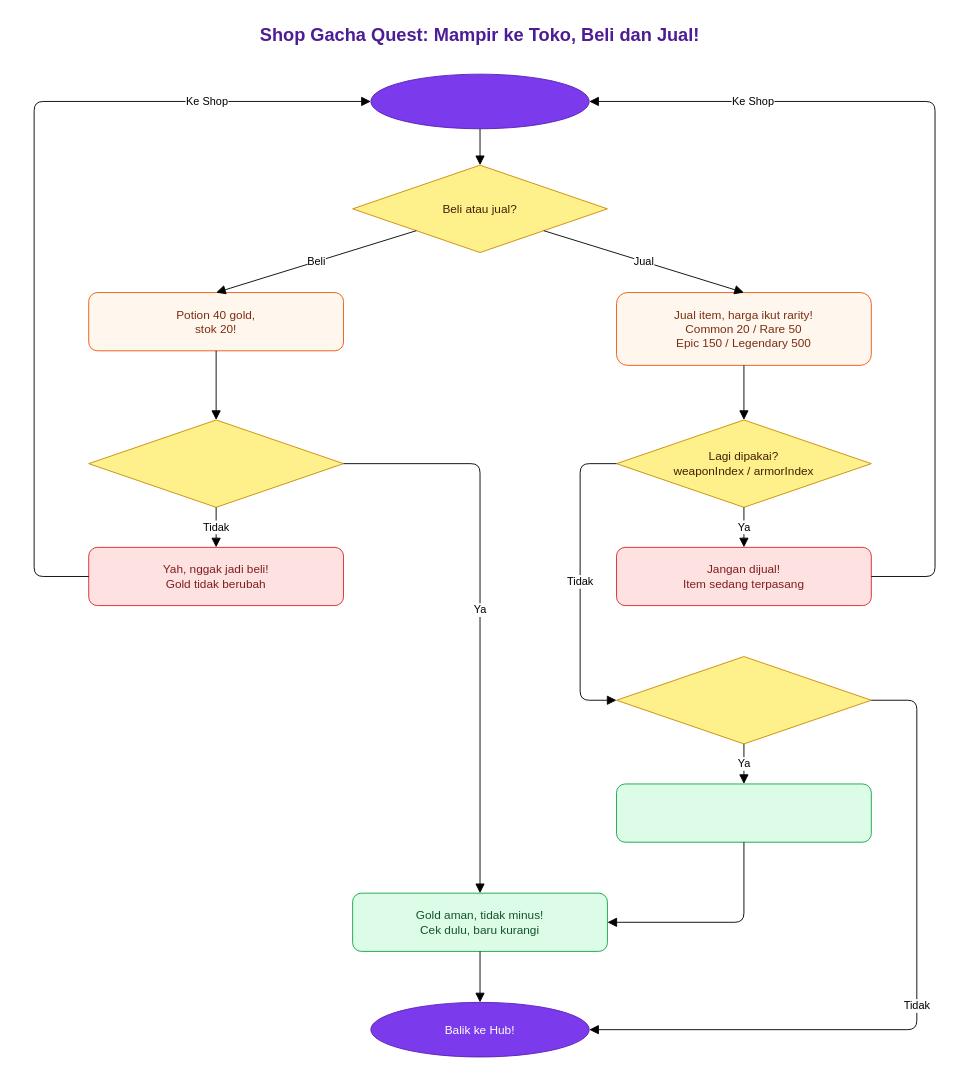
Some shapes in this 960 by 1073 pixel diagram are drawn without their labels. The box of each missing label's shape, as (x1, y1, x2, y2) in pixels:
Gold dan stok aman?: (88, 419, 344, 507)
Mampir ke toko! shopMenu: (370, 73, 589, 129)
Terjual! Gold bertambah! Item hilang dari tas: (616, 783, 871, 842)
Yakin mau jual? Ya jual / Tidak batal: (616, 656, 871, 744)
